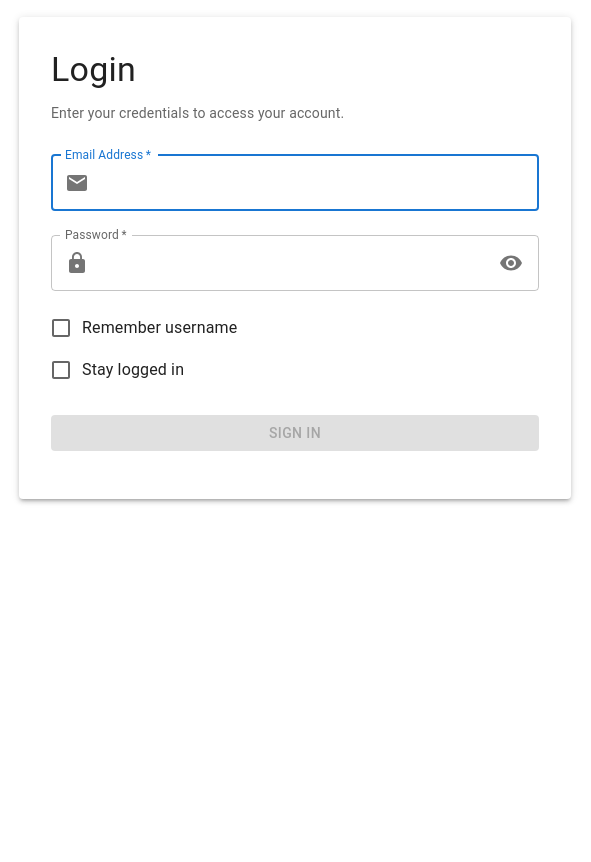
it: Login Page › shows friendly message on invalid credentials (400/401/403)
In the field with id "email": (318, 183) x1=97 y1=155 x2=539 y2=211, type "john@example.com"
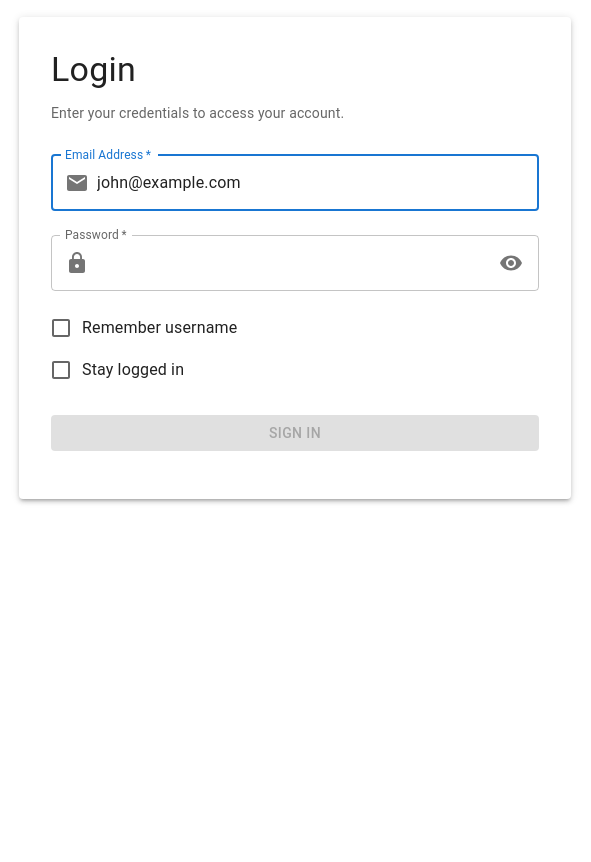
In the password field labelled "Password *": (292, 263) x1=97 y1=235 x2=486 y2=291, type "bad"
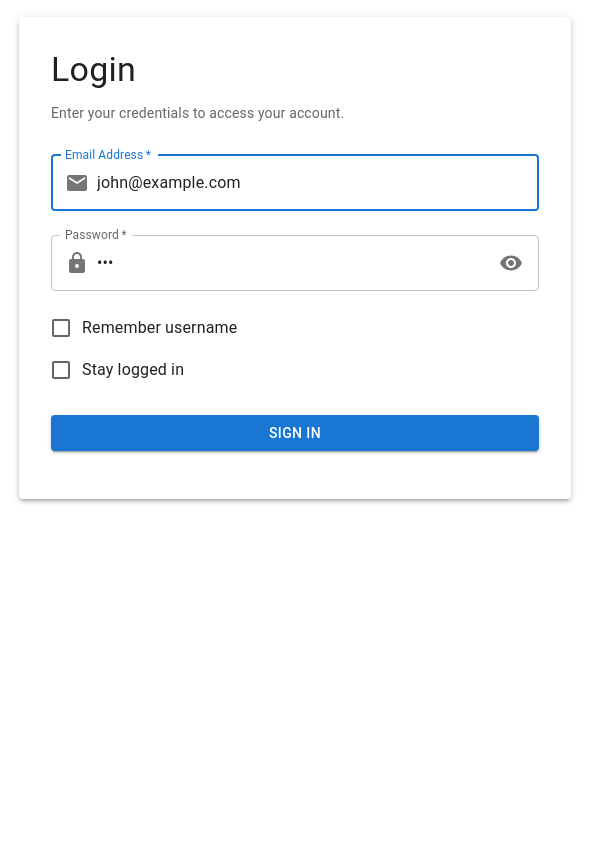
Click the button "Sign In": (295, 433) x1=51 y1=415 x2=539 y2=451
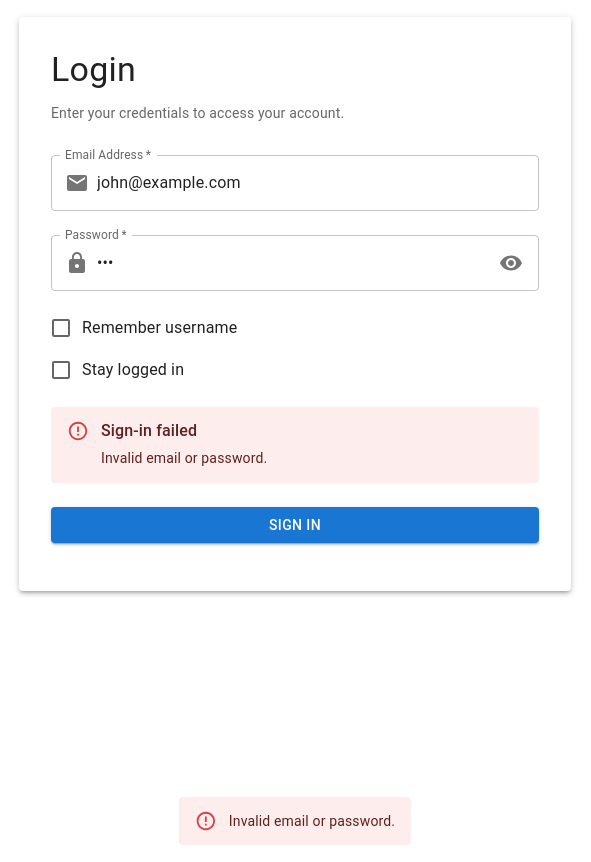
Expected: the text "Invalid email or password." is shown, x1=101 y1=450 x2=267 y2=466
